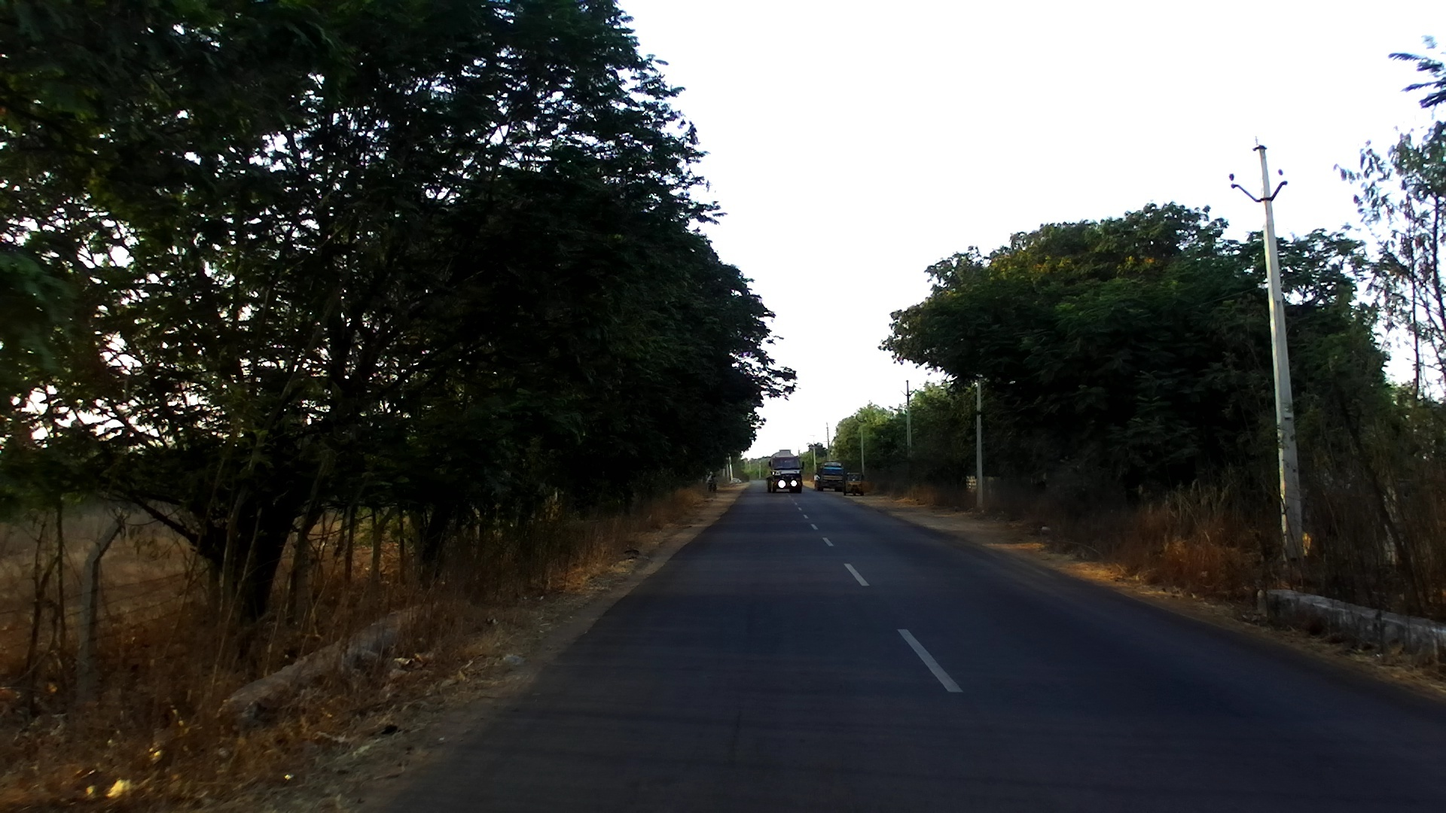autorickshaw: (842, 470, 871, 495)
person: (812, 471, 822, 494), (706, 470, 715, 494), (709, 473, 718, 494)
truck: (761, 450, 806, 495), (813, 460, 846, 495)
